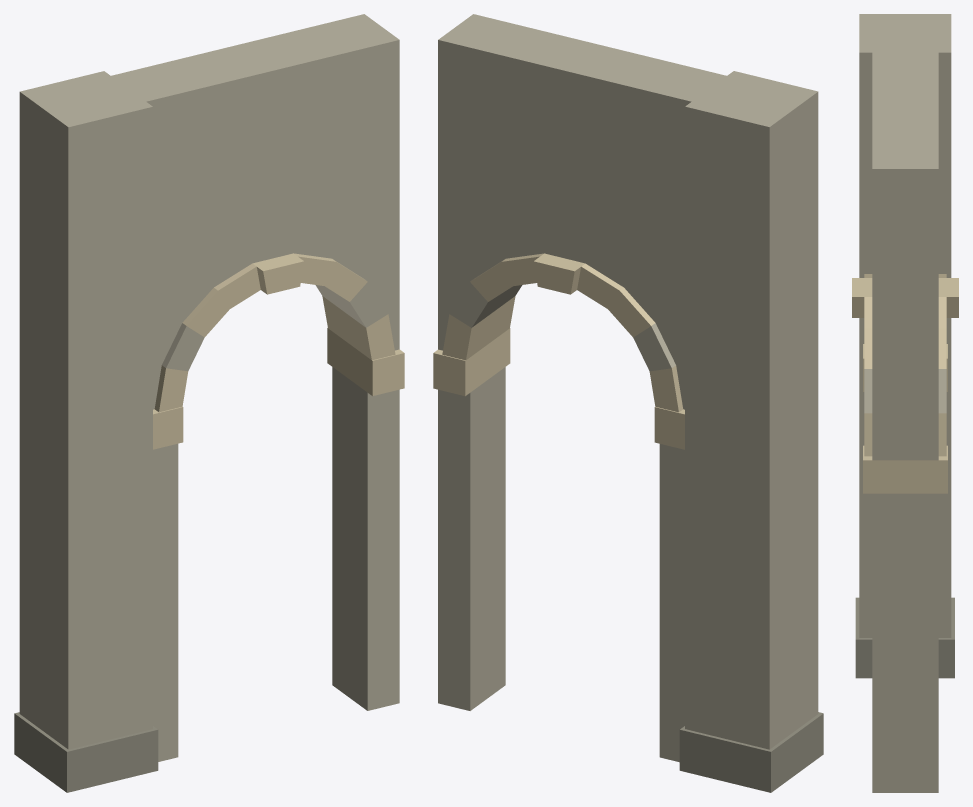
Rendered from postern_doorway.glb.
3 views of the same model, side by side, from view 1: azimuth 30°, elevation 25°; view 2: azimuth 150°, elevation 25°; view 3: azimuth 270°, elevation 25° (orthographic). The views are drawn at different scales.
Visible parts, largest first — view 1: Postern doorway; view 2: Postern doorway; view 3: Postern doorway.
Part boxes in pixels (box(x1,y1,x2,y2)): Postern doorway: box(14, 14, 404, 792); Postern doorway: box(433, 14, 823, 792); Postern doorway: box(852, 14, 958, 792).
Bounding box in the file's own units: 1.01 × 1.88 × 0.291.
